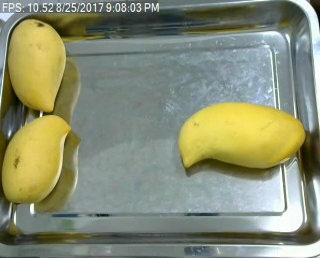Mango: (178, 101, 308, 174), (0, 111, 73, 205), (5, 18, 67, 114)
